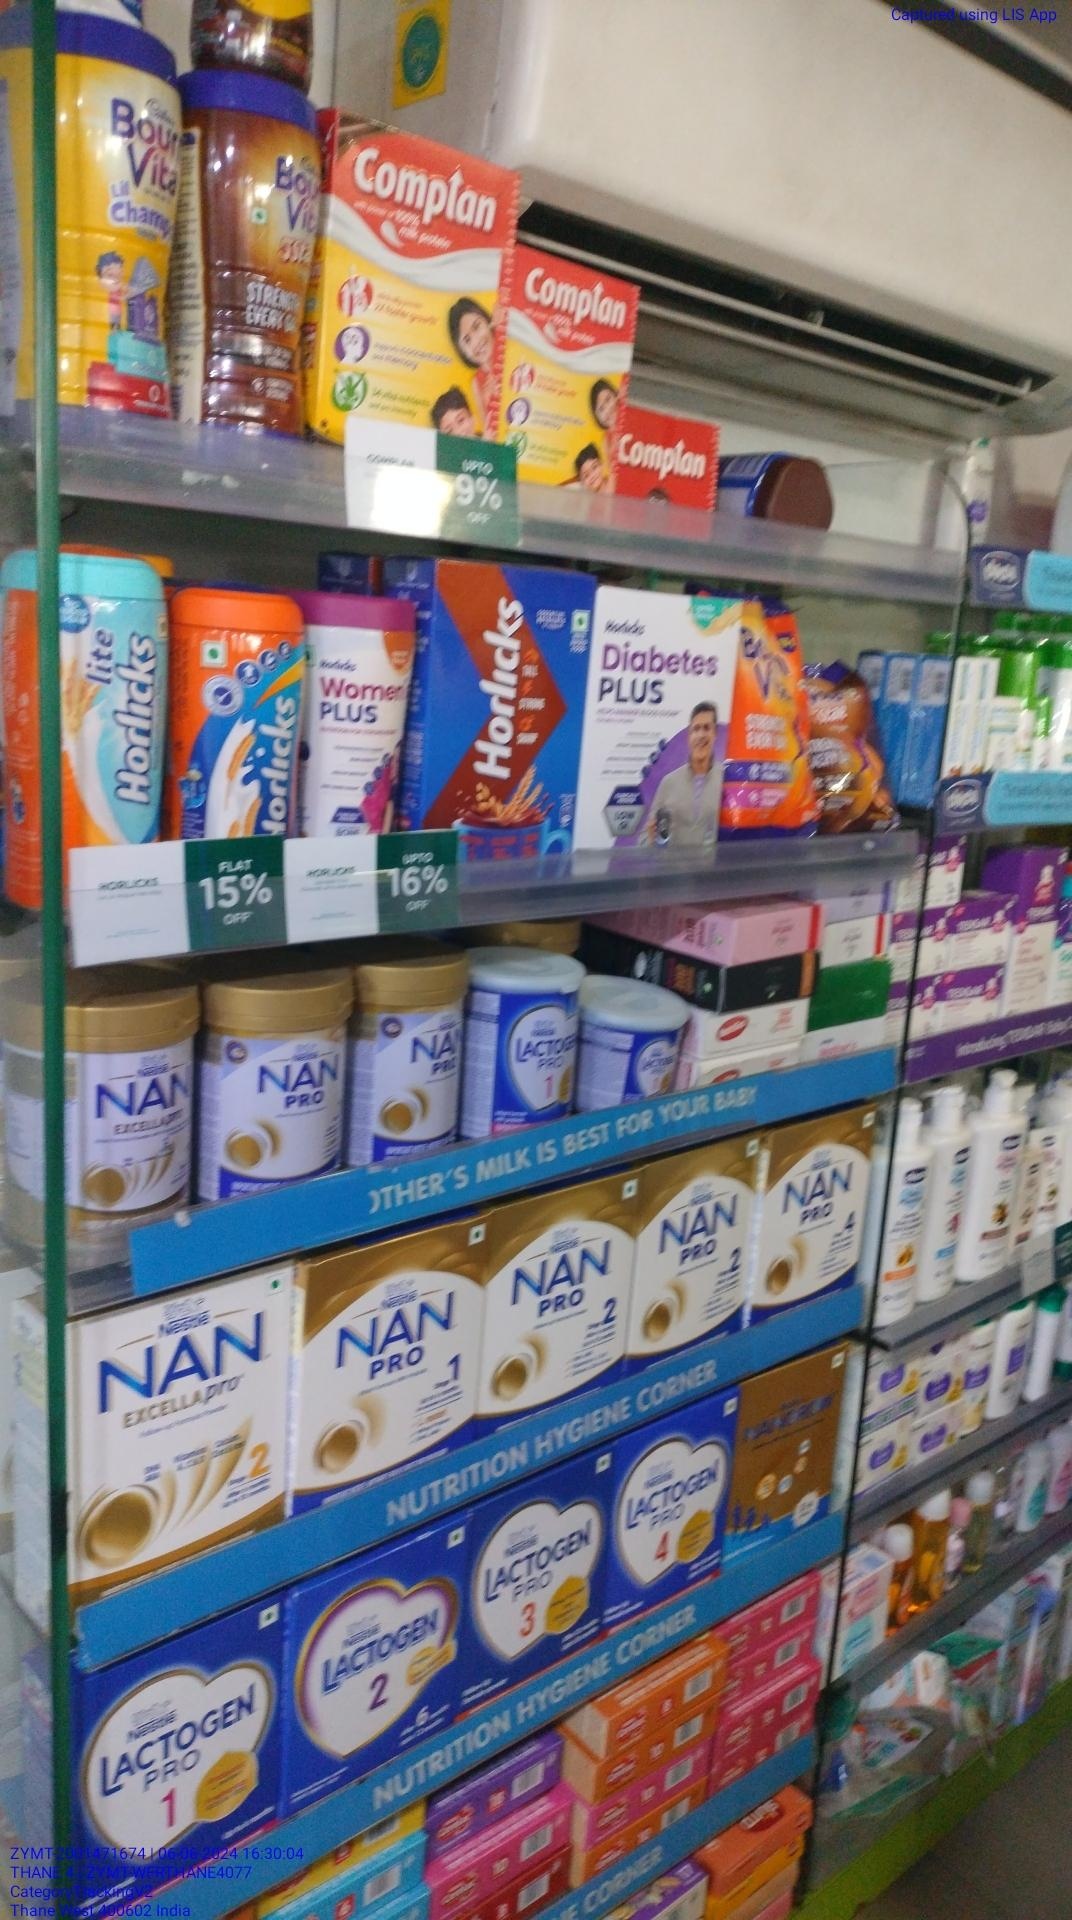BOURN_VITA_750_G_POUCH: (732, 592, 811, 840)
BOURN_VITA_CHAMPS_500_G_JAR: (46, 11, 186, 422)
BOURN_VITA_FIVE_STAR_MAGIC_500_G_JAR: (207, 71, 318, 431)
COMPLAN_CHOCOLATE_500_GMS_PACK: (335, 109, 508, 435)
COMPLAN_KESAR_BADAM_500_GMS_PACK: (518, 248, 629, 504)
HORLICKS_LITE_REGULAR_MALT_500_GM_JAR: (8, 547, 166, 857)
HORLICK_CHOCOLATE_500_G_PACK: (432, 560, 583, 882)
HORLICK_CLASSIC_MALT_200_G_JAR: (175, 585, 301, 849)
